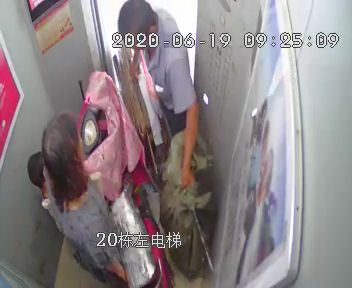Electric-bicycle: (76, 73, 164, 287)
